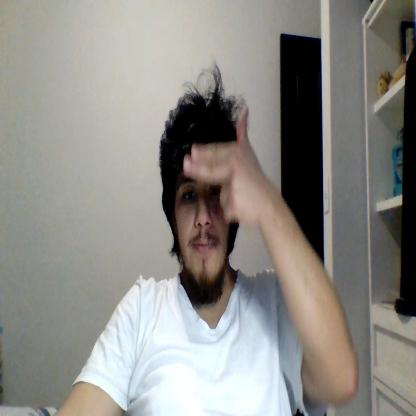H: (184, 108, 264, 223)
